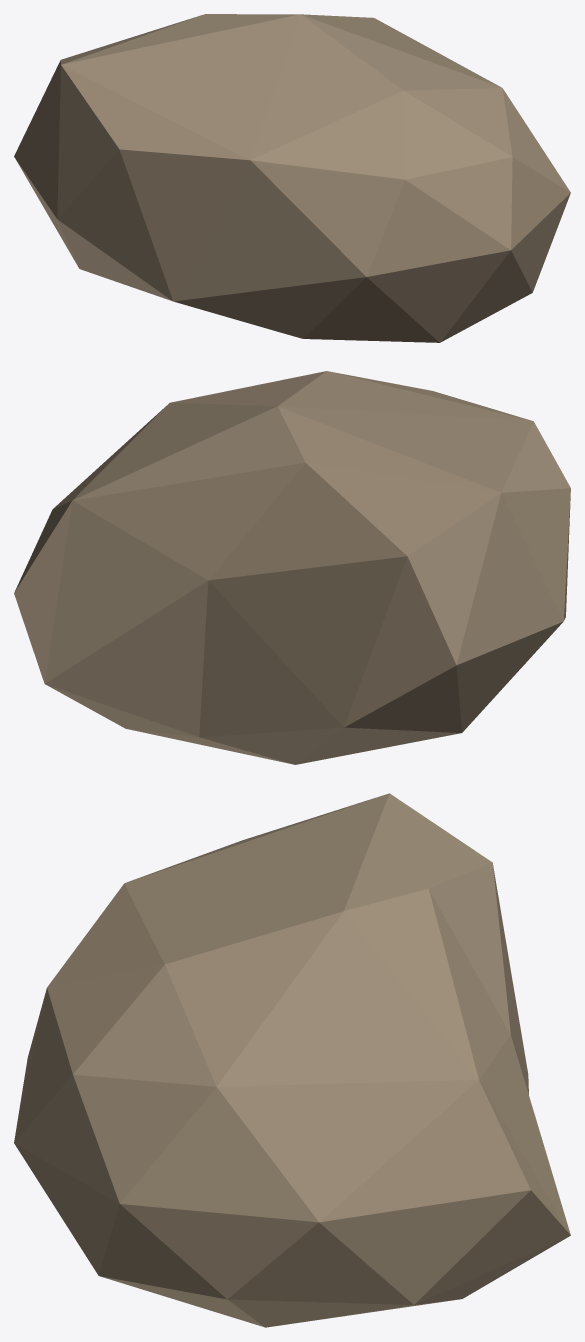
Rendered from Rock_004.fbx.
3 renders of one model, top to bottom at view 1: azimuth 30°, elevation 25°; view 2: azimuth 150°, elevation 25°; view 3: azimuth 270°, elevation 25°, orthographic. The views are drawn at different scales.
Visible parts, largest first — view 1: Rock.004; view 2: Rock.004; view 3: Rock.004.
Part boxes in pixels (x1,y1,x2,y2): Rock.004: (14, 14, 570, 342); Rock.004: (14, 371, 570, 764); Rock.004: (14, 793, 570, 1327).
Bounding box in the file's own units: 259 × 158 × 222.
